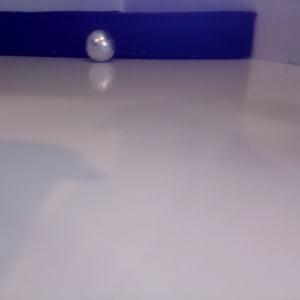zone: (1, 10, 256, 60)
